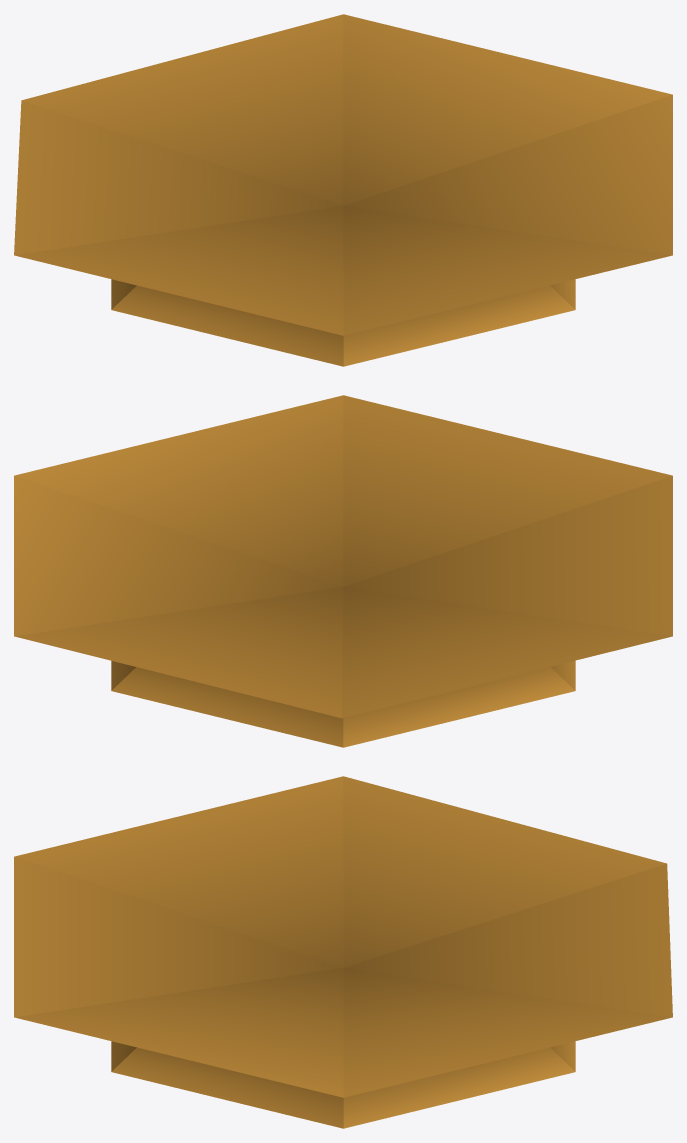
Rendered from obj_plateSmall_LOW.FBX.
3 views of the same model, one above another, from view 1: azimuth 30°, elevation 25°; view 2: azimuth 150°, elevation 25°; view 3: azimuth 270°, elevation 25° (orthographic).
Visible parts, largest first — view 1: obj_plateSmall_LOW; view 2: obj_plateSmall_LOW; view 3: obj_plateSmall_LOW.
Boxes of the visible parts, bbox=[...] form: obj_plateSmall_LOW: bbox=[14, 14, 672, 366]; obj_plateSmall_LOW: bbox=[14, 395, 672, 747]; obj_plateSmall_LOW: bbox=[14, 776, 672, 1128].
Size of the model in its own units: 0.6797 by 0.0773 by 0.5886.
